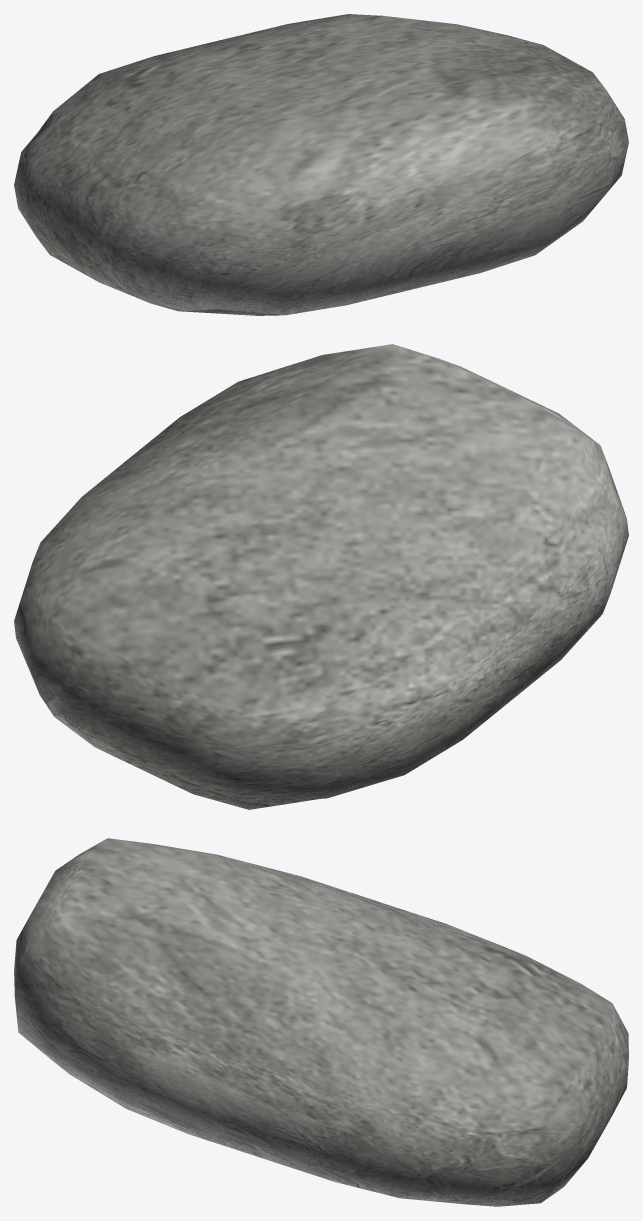
The model's file is Rock Platform.fbx.
The picture shows the model from 3 angles, top to bottom: view 1: azimuth 30°, elevation 25°; view 2: azimuth 150°, elevation 25°; view 3: azimuth 270°, elevation 25°; orthographic projection. The views are drawn at different scales.
Visible parts, largest first — view 1: Roundcube.016; view 2: Roundcube.016; view 3: Roundcube.016.
Part boxes in pixels (x1,y1,x2,y2): Roundcube.016: (14,14,628,315); Roundcube.016: (14,344,628,809); Roundcube.016: (14,838,628,1206).
Size of the model in its own units: 174 by 90.28 by 191.
1 material, 1 textured.
